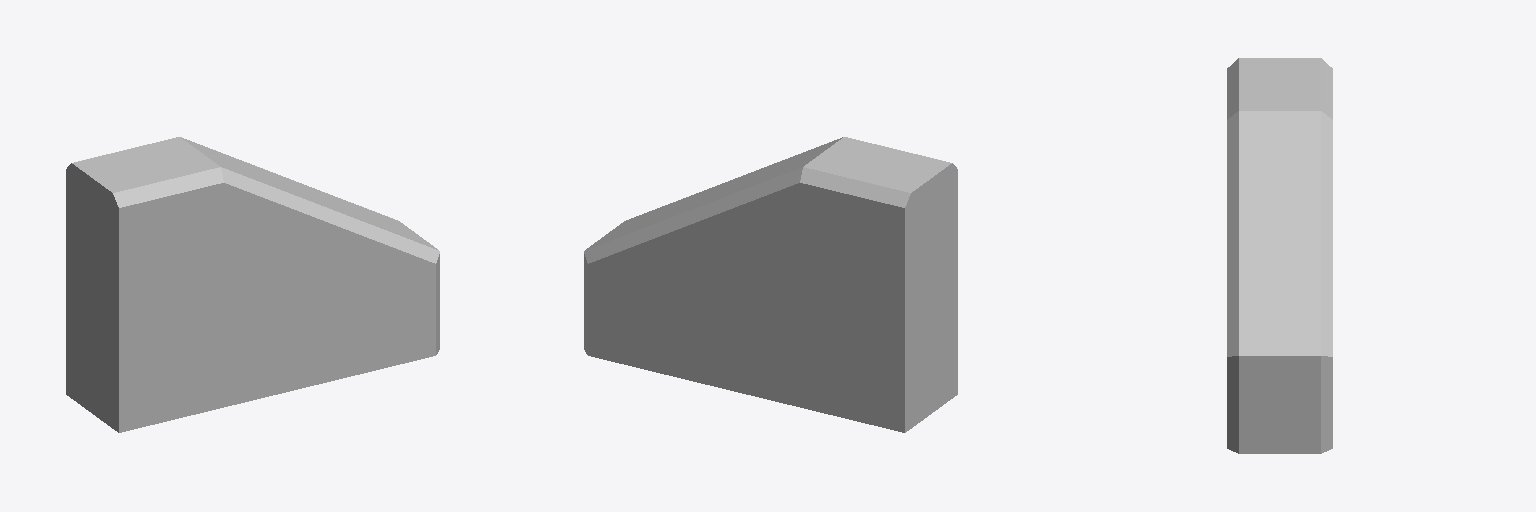
The model's file is Spacestation_Structure_Fuselage_Straight_Band.obj.
The picture shows the model from 3 angles: view 1: azimuth 30°, elevation 25°; view 2: azimuth 150°, elevation 25°; view 3: azimuth 270°, elevation 25°; orthographic projection.
Parts seen in each view (by area): view 1: object1; view 2: object1; view 3: object1.
Boxes of the visible parts, <box> form: object1: <box>66,137,439,432</box>; object1: <box>584,137,957,432</box>; object1: <box>1227,58,1332,453</box>.
Bounding box in the file's own units: 1.6 × 1.1 × 0.45.